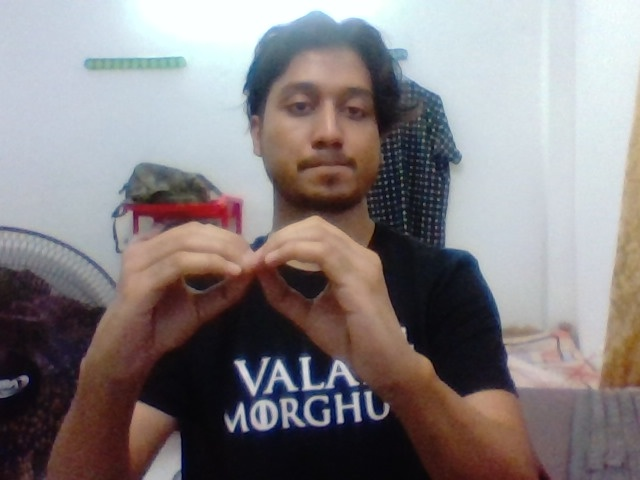B: (112, 197, 402, 379)
